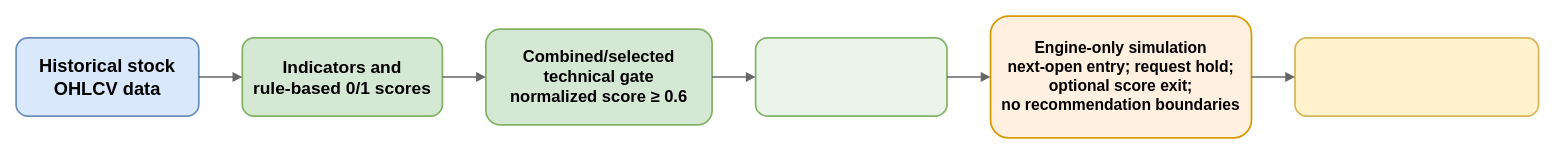
Image size: 1554x153. Some labels were removed from this diagram. The shapes that lost their labels are listed below. From the top down, each one's centre as x and y in pixels, then its label:
At point 850,77: "All technical candidate dates".
At point 1416,77: "Engine-only metrics and stored baseline result".
